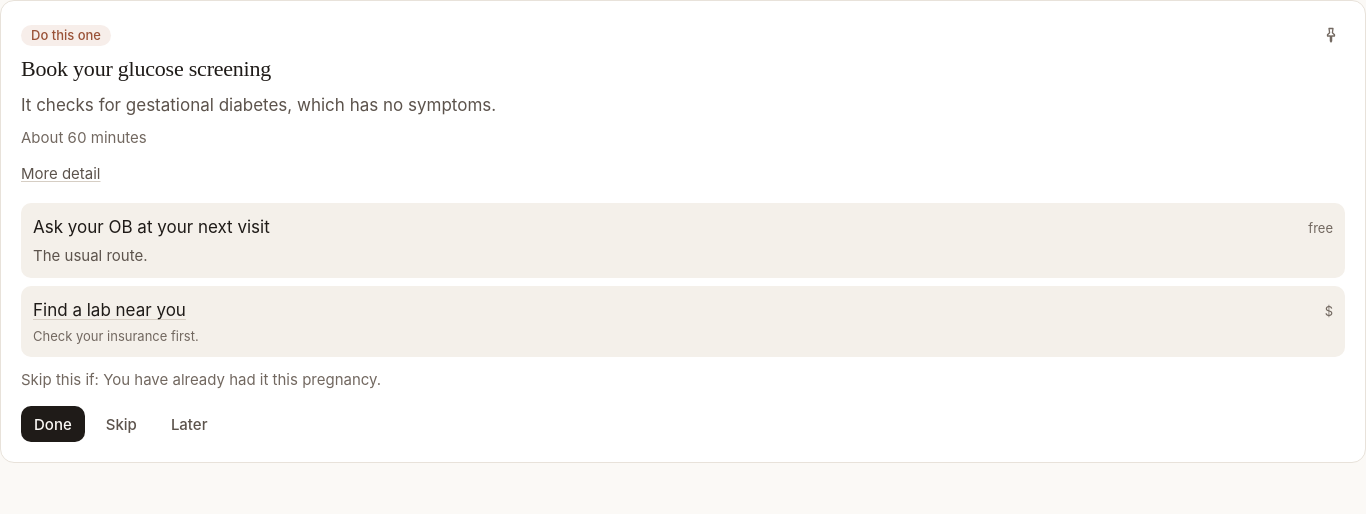
Scenario: ActionItem › keeps the detail behind a disclosure
Expected: the text "You drink a sweet drink and wait an hour." is not shown
Click the button "More detail".
click(61, 174)  # box [21, 163, 100, 184]
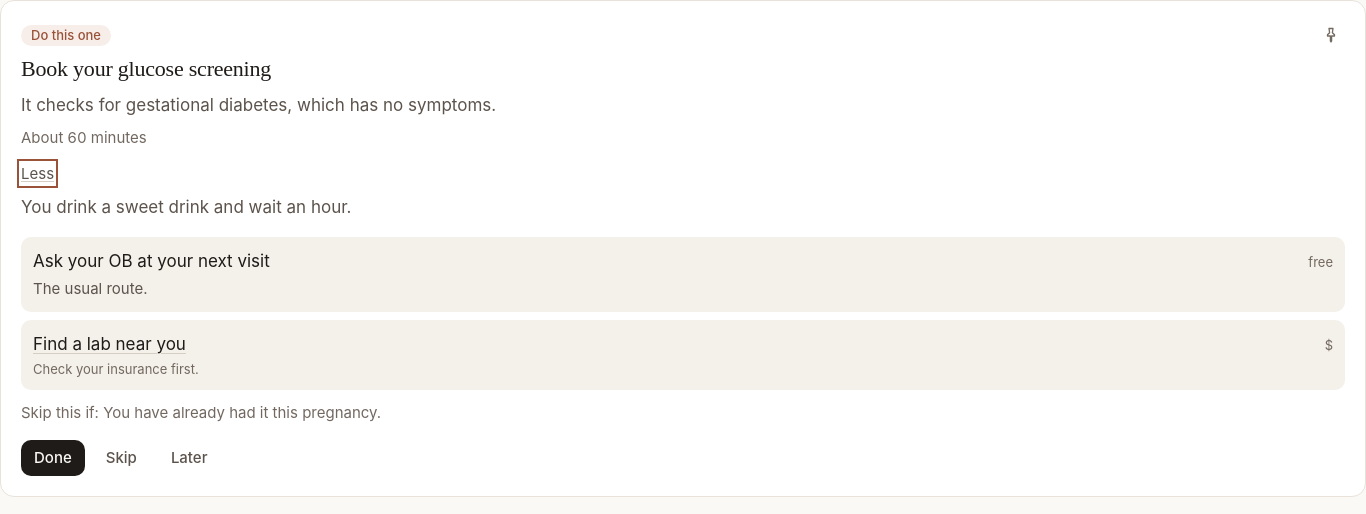
Expected: the text "You drink a sweet drink and wait an hour." is shown, [21, 197, 351, 217]
Click the button "Less".
click(38, 174)  # box [21, 163, 54, 184]
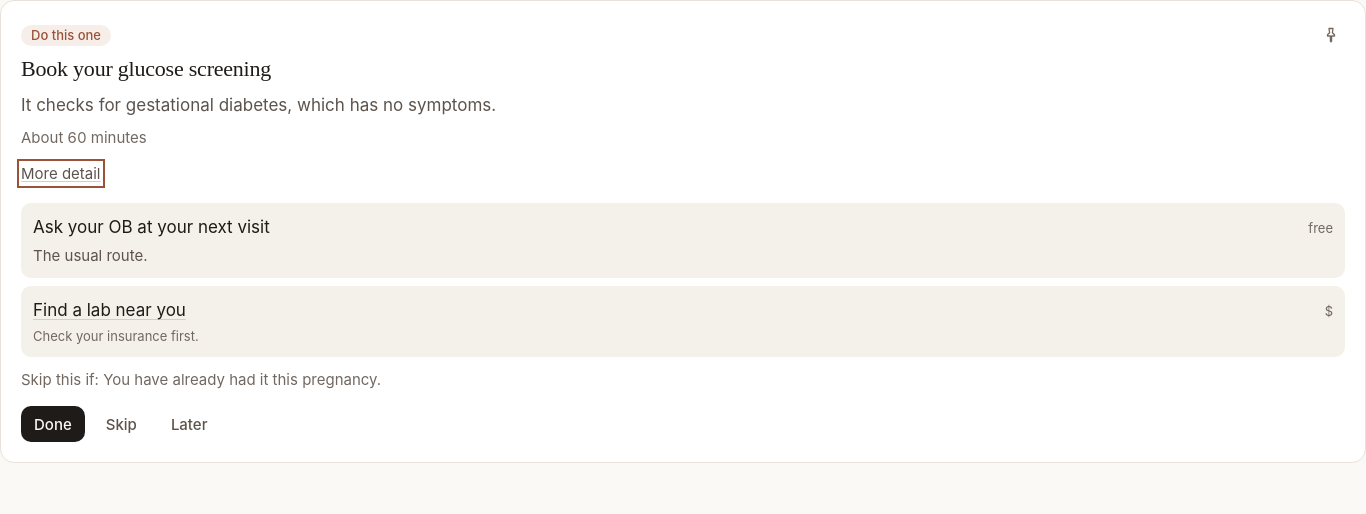
Expected: the text "You drink a sweet drink and wait an hour." is gone
